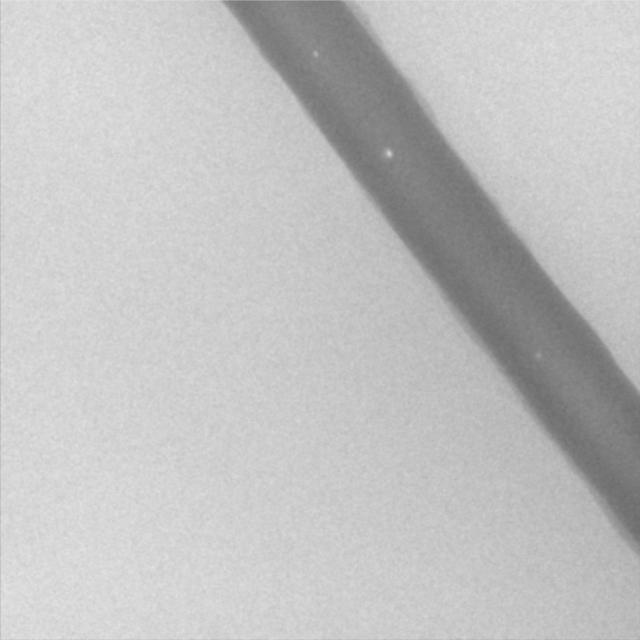air hole: (383, 147, 393, 158), (311, 48, 318, 57)
